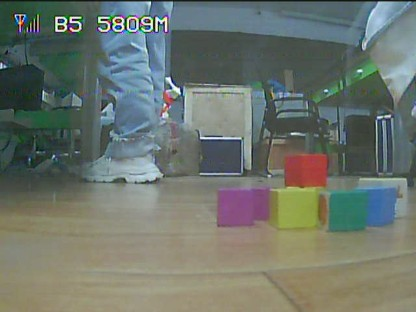b: (364, 189, 397, 224)
g: (326, 191, 368, 230)
r: (284, 155, 322, 184)
